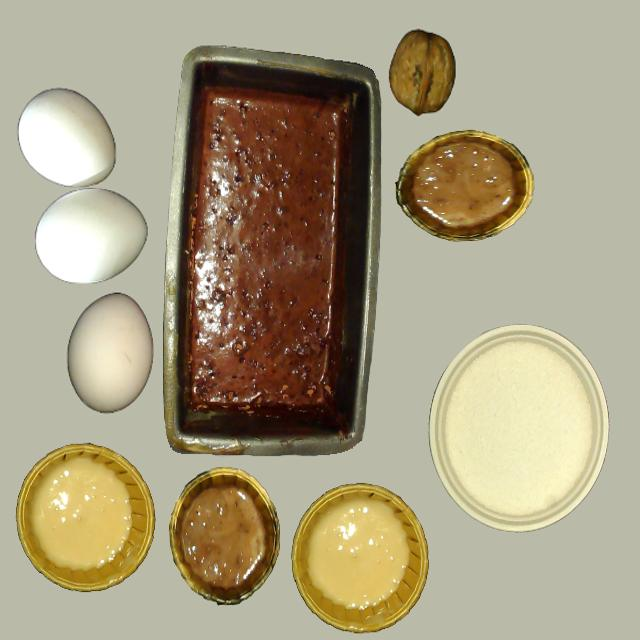Sugar: (441, 339, 593, 523)
Walnut: (389, 30, 453, 116)
